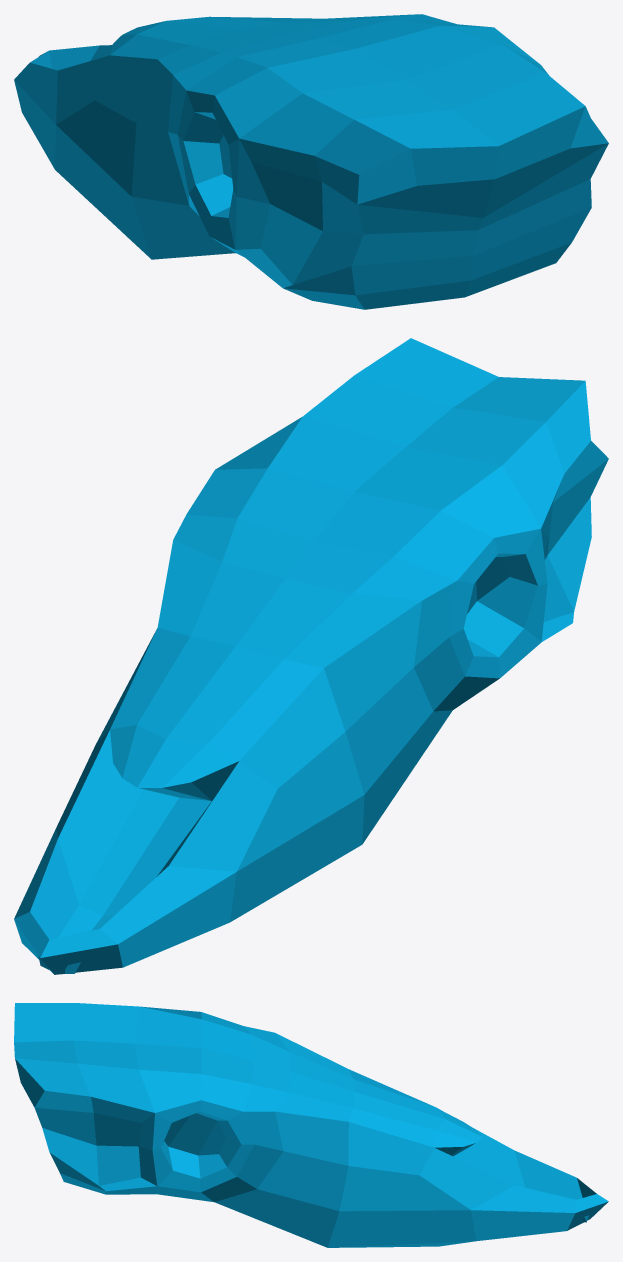
Rendered from Bull_Skull.fbx.
The picture shows the model from 3 angles, top to bottom: view 1: azimuth 30°, elevation 25°; view 2: azimuth 150°, elevation 25°; view 3: azimuth 270°, elevation 25°; orthographic projection. The views are drawn at different scales.
Visible parts, largest first — view 1: Bull_Skull; view 2: Bull_Skull; view 3: Bull_Skull.
Boxes of the visible parts, x1,y1,x2,y2 form: Bull_Skull: [14, 14, 608, 309]; Bull_Skull: [14, 338, 608, 974]; Bull_Skull: [14, 1003, 608, 1247].
Size of the model in its own units: 35.15 by 33.79 by 89.87.
